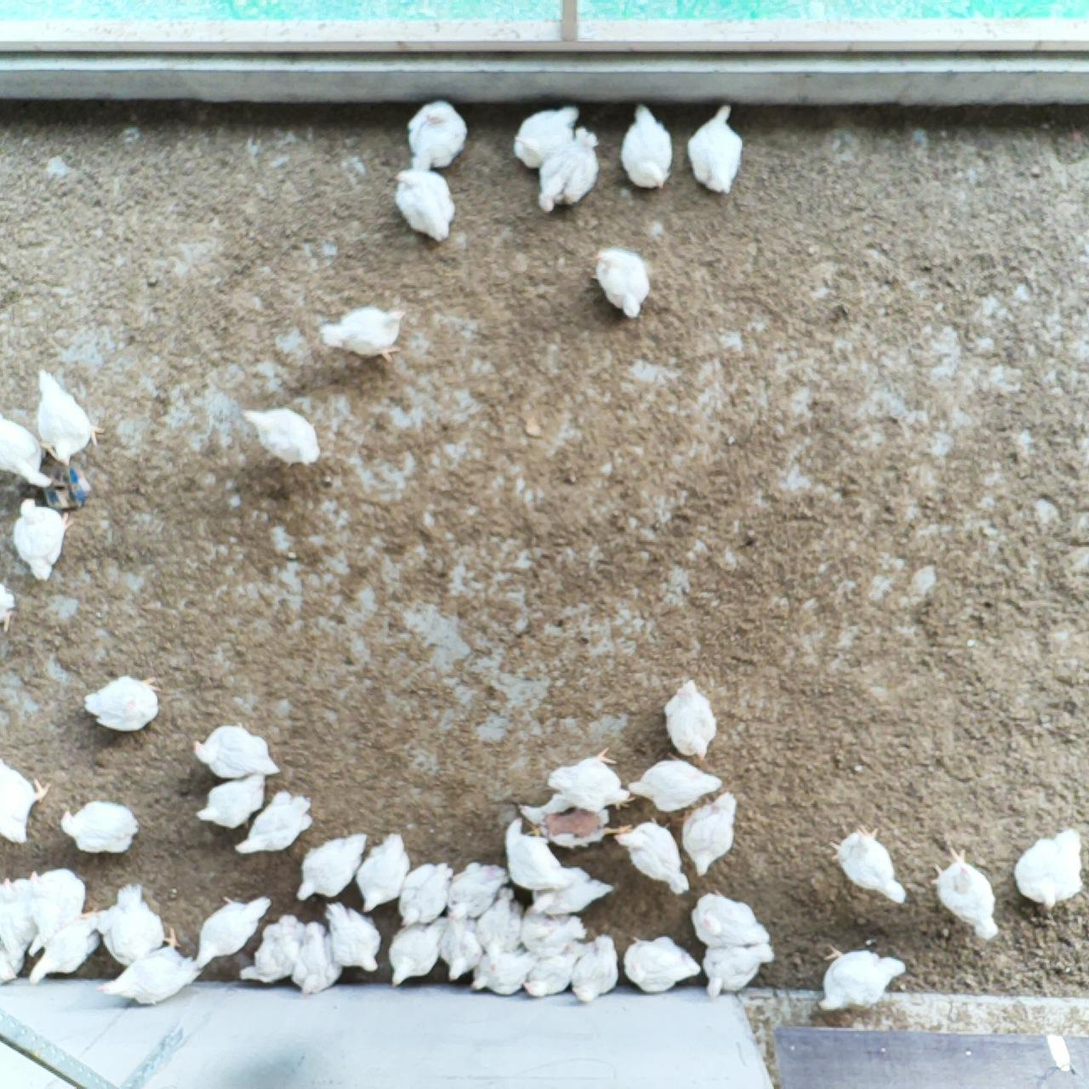chicken: (91, 925, 207, 1007), (33, 369, 107, 468), (927, 845, 1002, 942), (92, 883, 172, 973), (825, 820, 908, 904), (611, 812, 691, 899), (817, 943, 911, 1017), (1009, 823, 1086, 913), (513, 796, 631, 853), (540, 745, 635, 815), (499, 812, 574, 898), (27, 904, 104, 986), (683, 99, 747, 197), (536, 121, 602, 215), (188, 716, 284, 780), (313, 891, 383, 978), (316, 299, 408, 365), (25, 865, 91, 956), (193, 894, 274, 968), (626, 756, 724, 816), (239, 401, 324, 470), (294, 828, 373, 902), (615, 931, 703, 997), (390, 165, 459, 249), (232, 787, 313, 858), (15, 493, 74, 589), (236, 913, 312, 987), (615, 100, 676, 192), (680, 790, 738, 883), (589, 244, 654, 323), (193, 768, 270, 834), (80, 672, 163, 733), (688, 887, 770, 948), (57, 799, 144, 856), (662, 676, 719, 763), (354, 826, 412, 911), (511, 103, 583, 171), (0, 759, 54, 848), (704, 937, 779, 1001), (405, 95, 466, 170), (385, 916, 447, 988), (567, 933, 627, 1006), (444, 858, 509, 924), (0, 411, 54, 489), (292, 917, 345, 996), (398, 859, 455, 932), (0, 874, 39, 970), (436, 913, 487, 985), (467, 945, 537, 996), (521, 946, 582, 1001), (519, 906, 585, 954), (473, 885, 515, 960), (499, 899, 532, 959), (0, 577, 17, 633), (0, 949, 19, 985)
